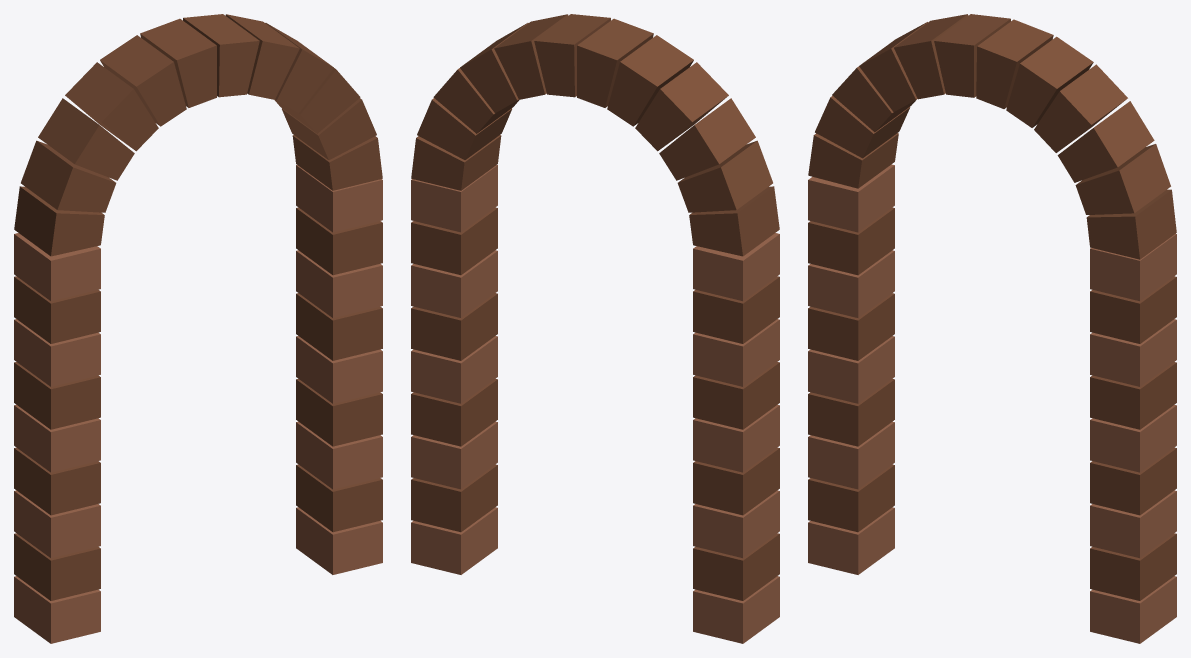
3 renders of one model, left to right at view 1: azimuth 30°, elevation 25°; view 2: azimuth 150°, elevation 25°; view 3: azimuth 330°, elevation 25°, orthographic.
Parts seen in each view (by area): view 1: a102; view 2: a102; view 3: a102.
Part boxes in pixels (x1=…): a102: x1=14, y1=14, x2=382, y2=643; a102: x1=411, y1=14, x2=779, y2=643; a102: x1=808, y1=14, x2=1176, y2=643.
Size of the model in its own units: 1.46 by 2.34 by 0.28.
